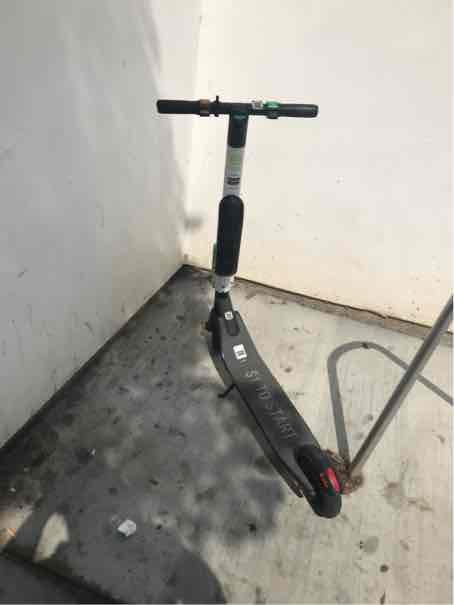scooter: (151, 95, 350, 525)
